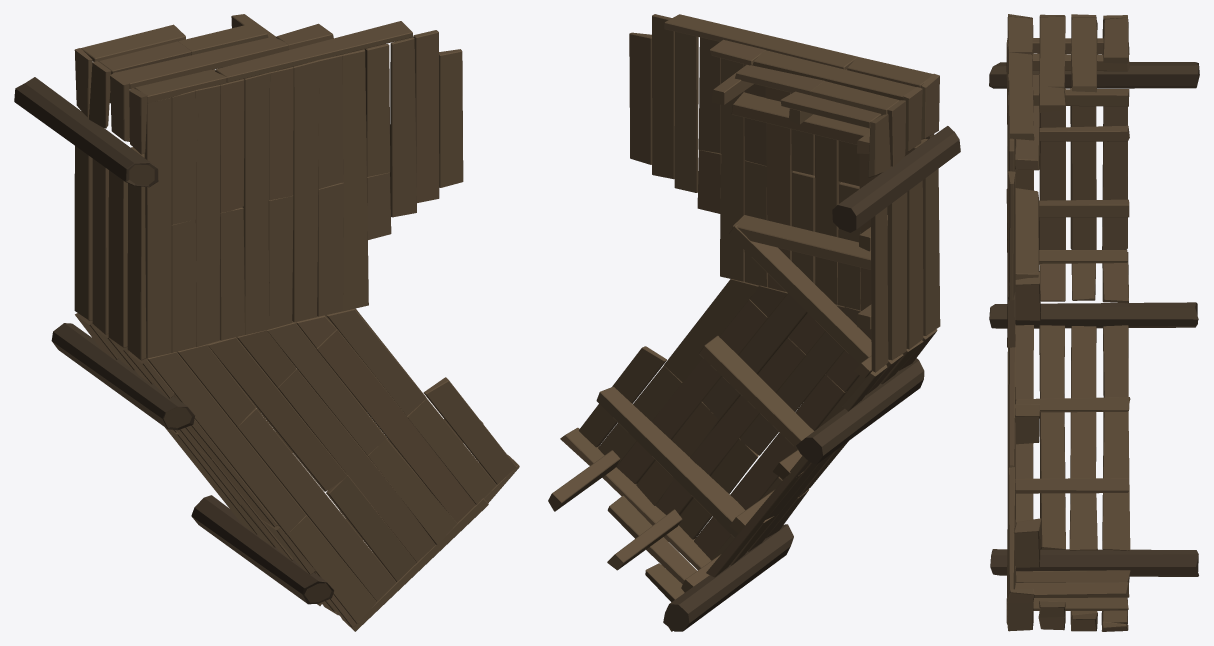
Rendered from Docks.glb.
3 views of the same model, side by side, from view 1: azimuth 30°, elevation 25°; view 2: azimuth 150°, elevation 25°; view 3: azimuth 270°, elevation 25° (orthographic). The views are drawn at different scales.
Visible parts, largest first — view 1: Docks; view 2: Docks; view 3: Docks.
Part boxes in pixels (x1=…): Docks: x1=14, y1=14, x2=519, y2=631; Docks: x1=548, y1=14, x2=960, y2=631; Docks: x1=989, y1=14, x2=1199, y2=631.
Bounding box in the file's own units: 6.6 × 9.21 × 3.35.
1 material, 1 textured.
